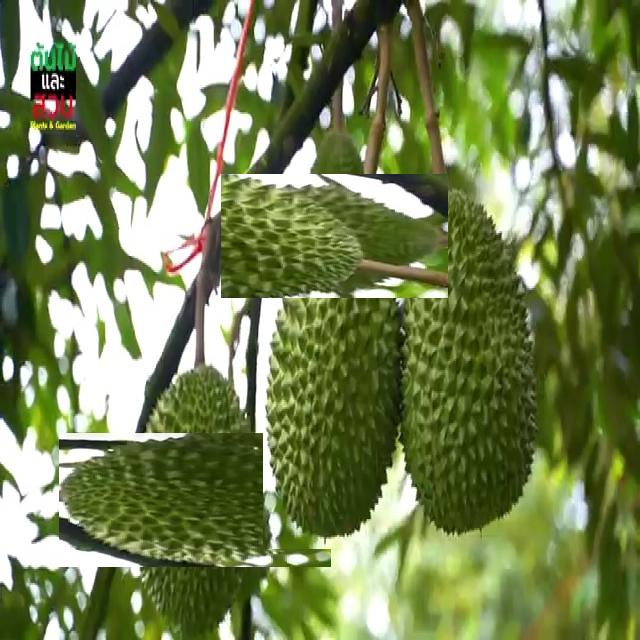durian: (396, 185, 540, 542), (263, 206, 404, 549), (94, 398, 297, 602), (246, 148, 422, 324)
